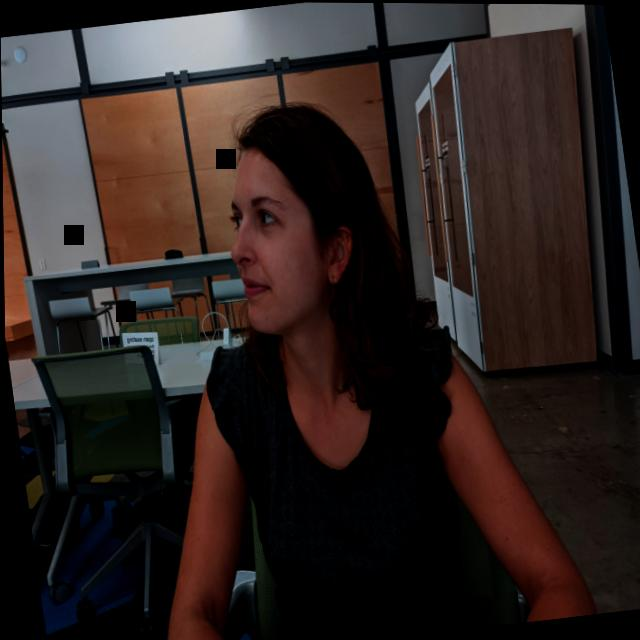NO-Mask: (219, 145, 348, 341)
